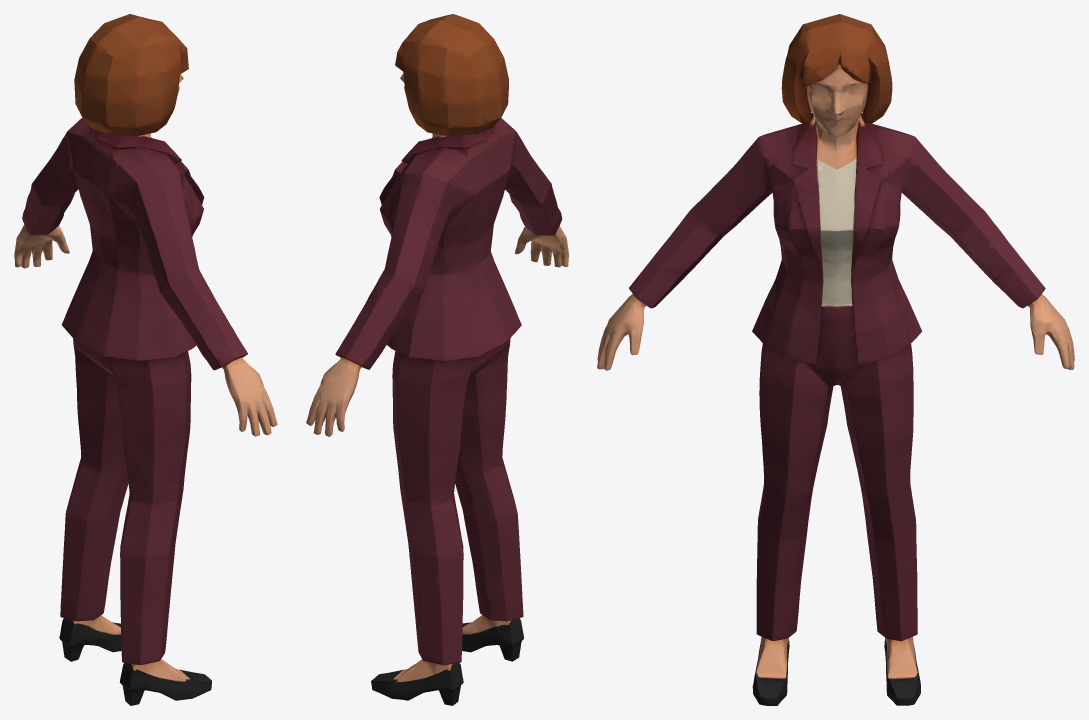
The model's file is diner-woman2.glb.
3 views of the same model, side by side, from view 1: azimuth 30°, elevation 25°; view 2: azimuth 150°, elevation 25°; view 3: azimuth 270°, elevation 25° (orthographic). The views are drawn at different scales.
Parts seen in each view (by area): view 1: tripo_node_0fd2e34f-1fa1-4481-b138-747906fdc886; view 2: tripo_node_0fd2e34f-1fa1-4481-b138-747906fdc886; view 3: tripo_node_0fd2e34f-1fa1-4481-b138-747906fdc886.
Part boxes in pixels (box(x1,y1,x2,y2)): tripo_node_0fd2e34f-1fa1-4481-b138-747906fdc886: box(14, 14, 277, 705); tripo_node_0fd2e34f-1fa1-4481-b138-747906fdc886: box(306, 14, 568, 705); tripo_node_0fd2e34f-1fa1-4481-b138-747906fdc886: box(597, 14, 1074, 705).
Size of the model in its own units: 0.3183 by 1.75 by 1.14.
Materials: 1 (1 with a texture image).
